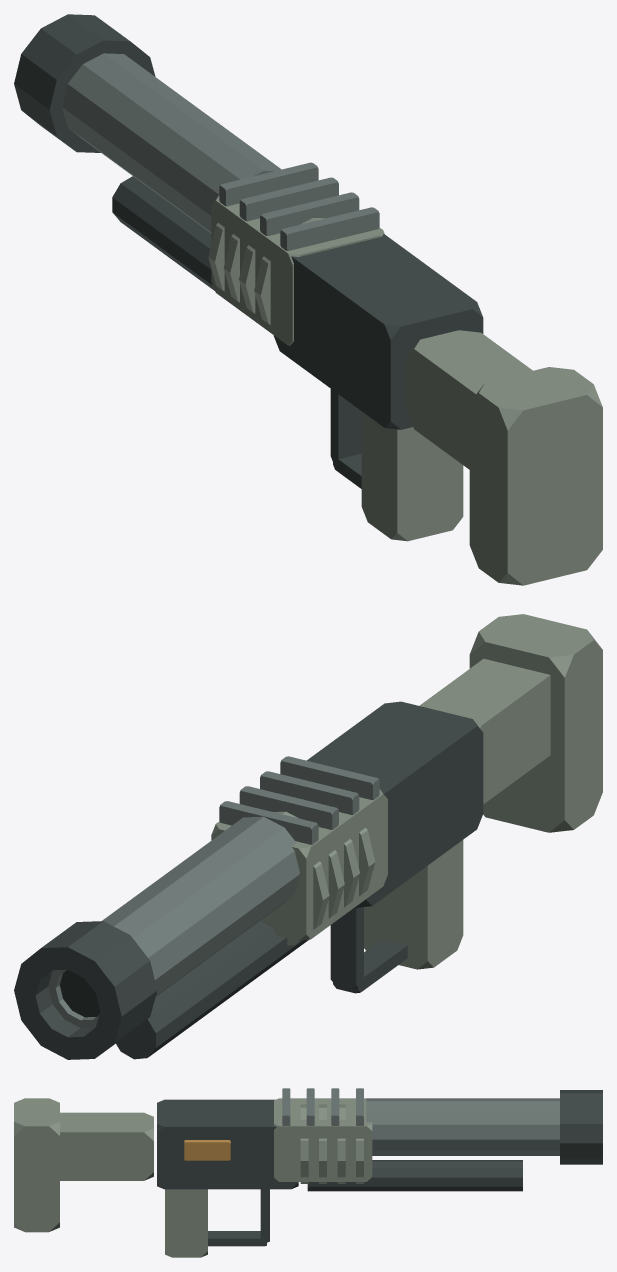
File: weapon_shotgun.glb
The picture shows the model from 3 angles, top to bottom: view 1: azimuth 30°, elevation 25°; view 2: azimuth 150°, elevation 25°; view 3: azimuth 270°, elevation 25°; orthographic projection. The views are drawn at different scales.
Visible parts, largest first — view 1: weapon_shotgun; view 2: weapon_shotgun; view 3: weapon_shotgun.
Part boxes in pixels (bbox=[...]): weapon_shotgun: bbox=[14, 14, 602, 585]; weapon_shotgun: bbox=[14, 614, 602, 1059]; weapon_shotgun: bbox=[14, 1088, 602, 1257].
Bounding box in the file's own units: 0.1298 × 0.2773 × 0.9564.
